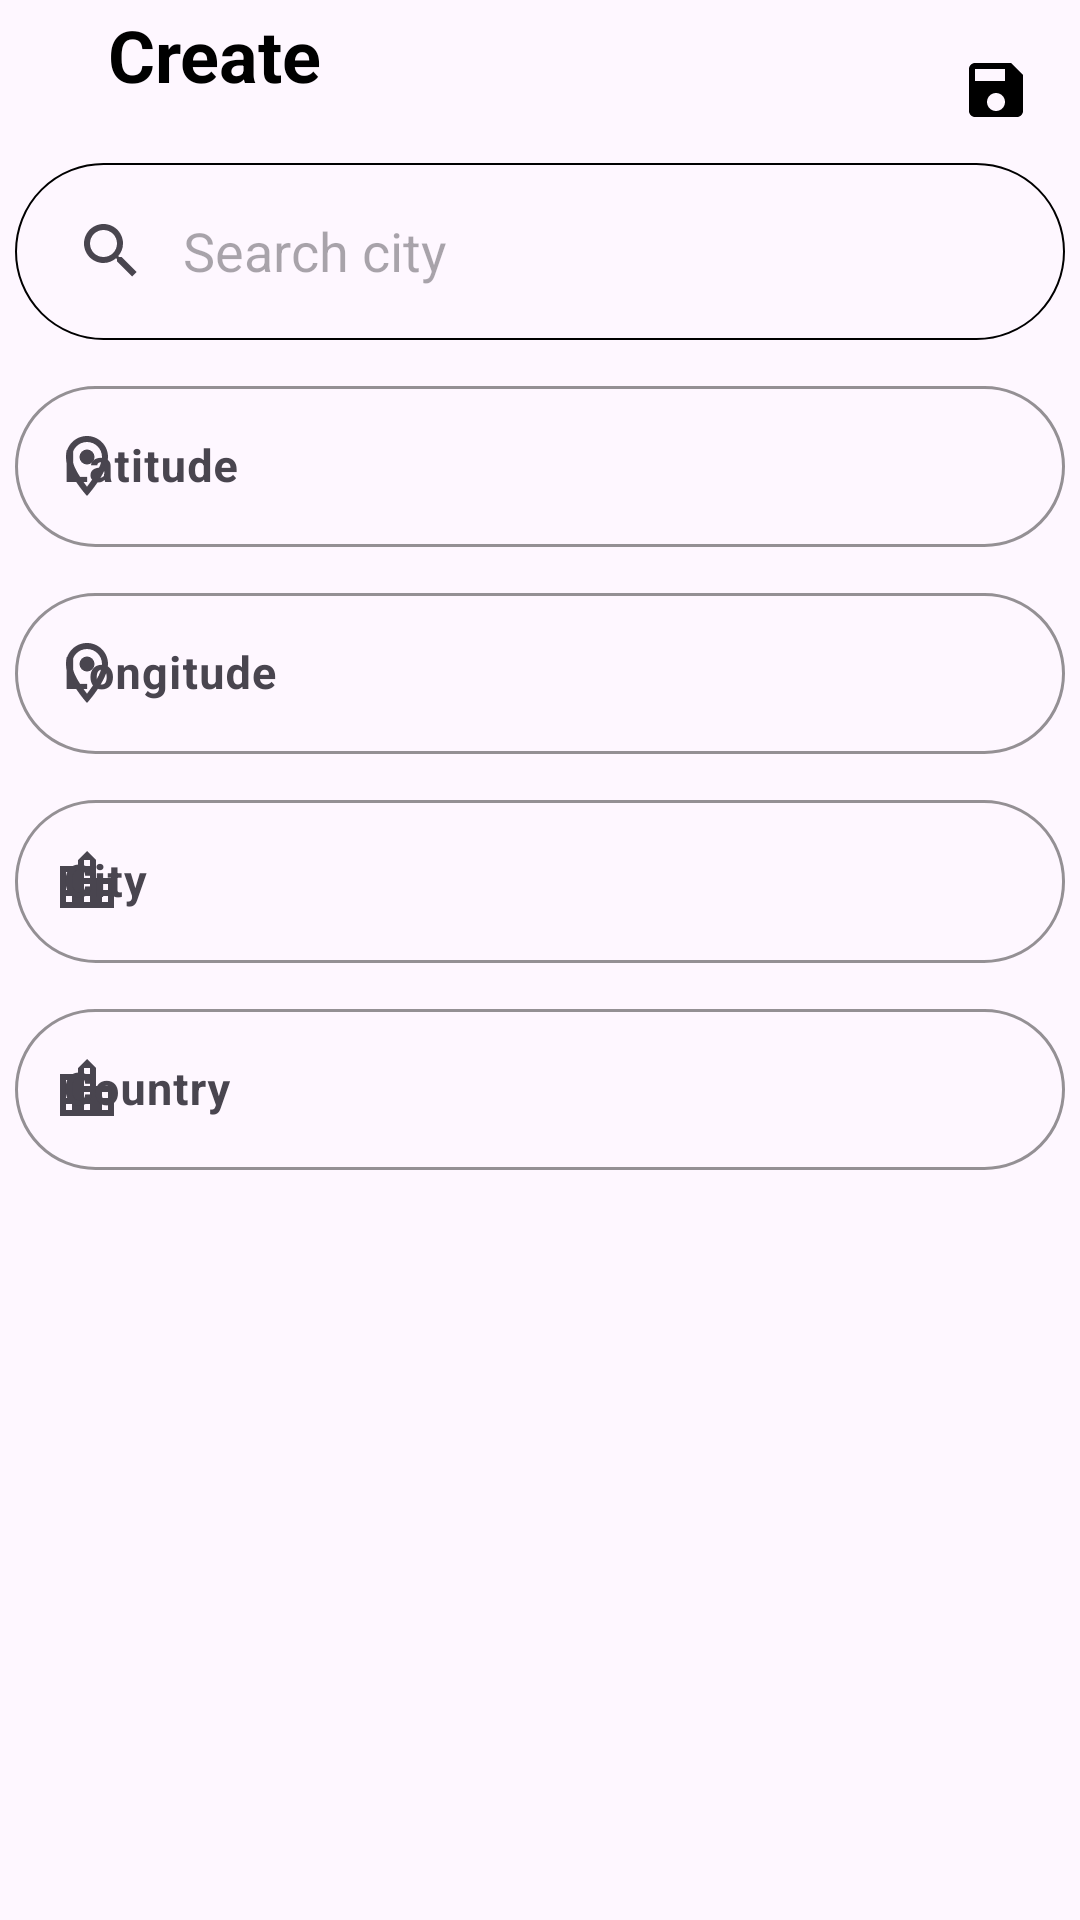

Where to tap for icons on this 1080×1920 app screen, as point (x, y):
save: point (996, 90)
